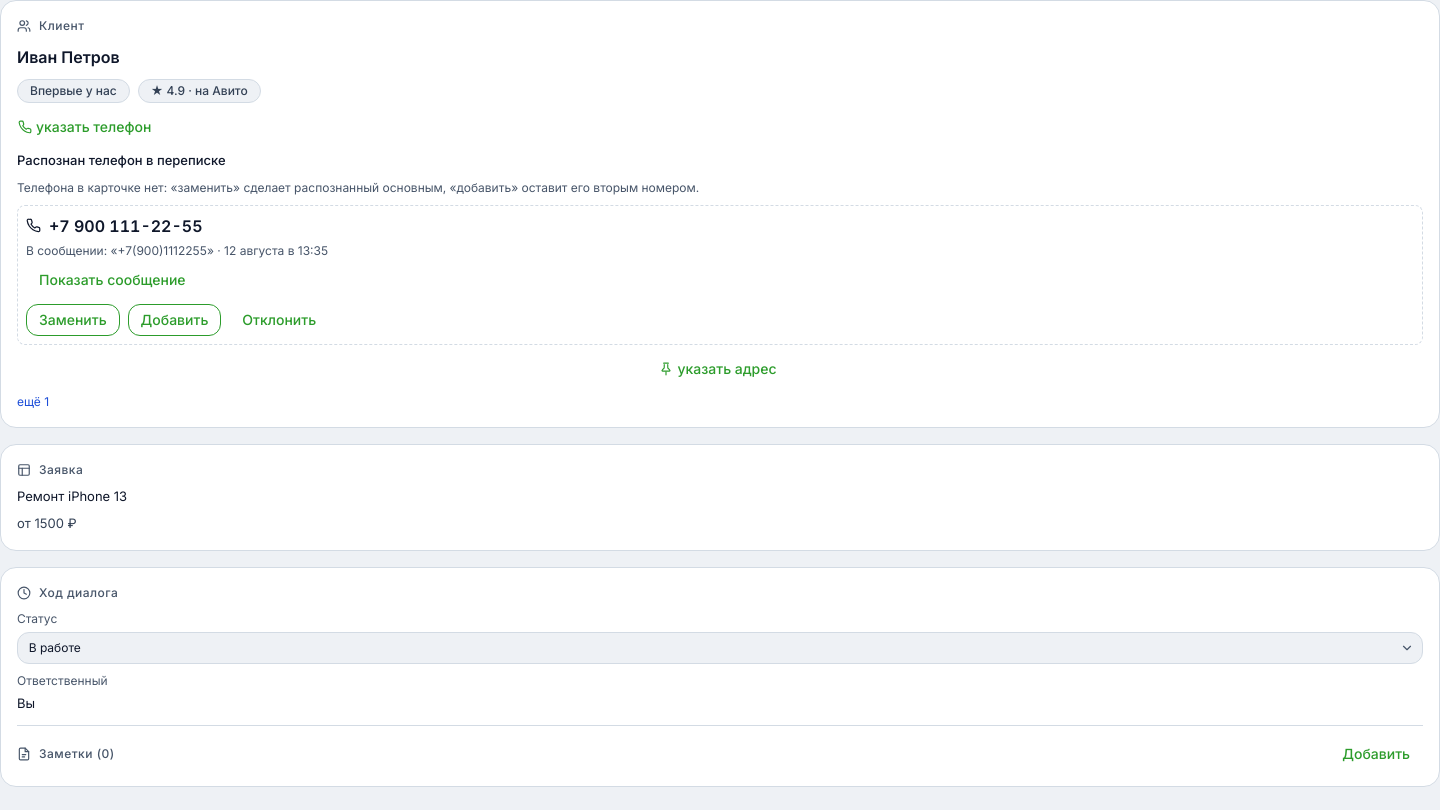
Карточка клиента — распознанный телефон › не сумев достать сообщение, говорит об этом, а не гадает
Expected: the text "Распознан телефон в переписке" is shown, [17,152,226,168]
Click the button "Показать сообщение" at (112, 280), box [26,264,199,296]
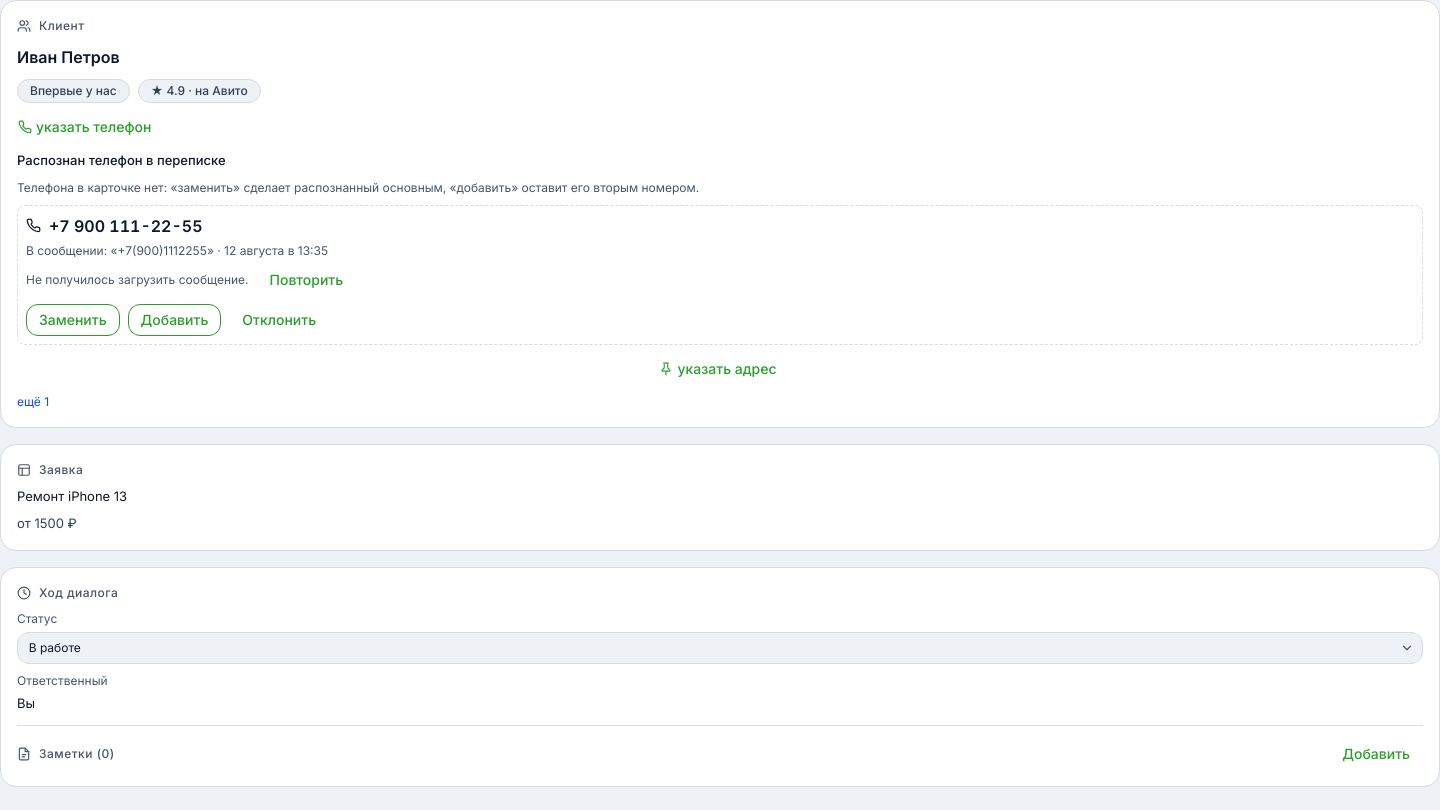
Result: the text "Не получилось загрузить сообщение." is shown at [26,270,248,288]
Result: the button "Повторить" is shown at [256,264,356,296]
